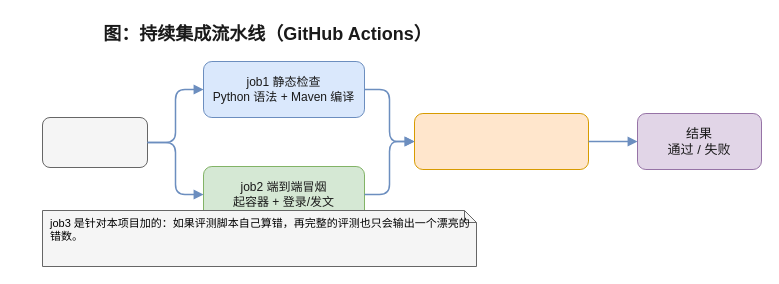
Some shapes in this 779 by 284 pixel diagram are drawn without their labels. Each missing label, with the centre of its shape:
"job3 评测流水线自检 mock 数据验证指标脚本" belongs at (501,141).
"push / PR 触发" belongs at (95,142).
